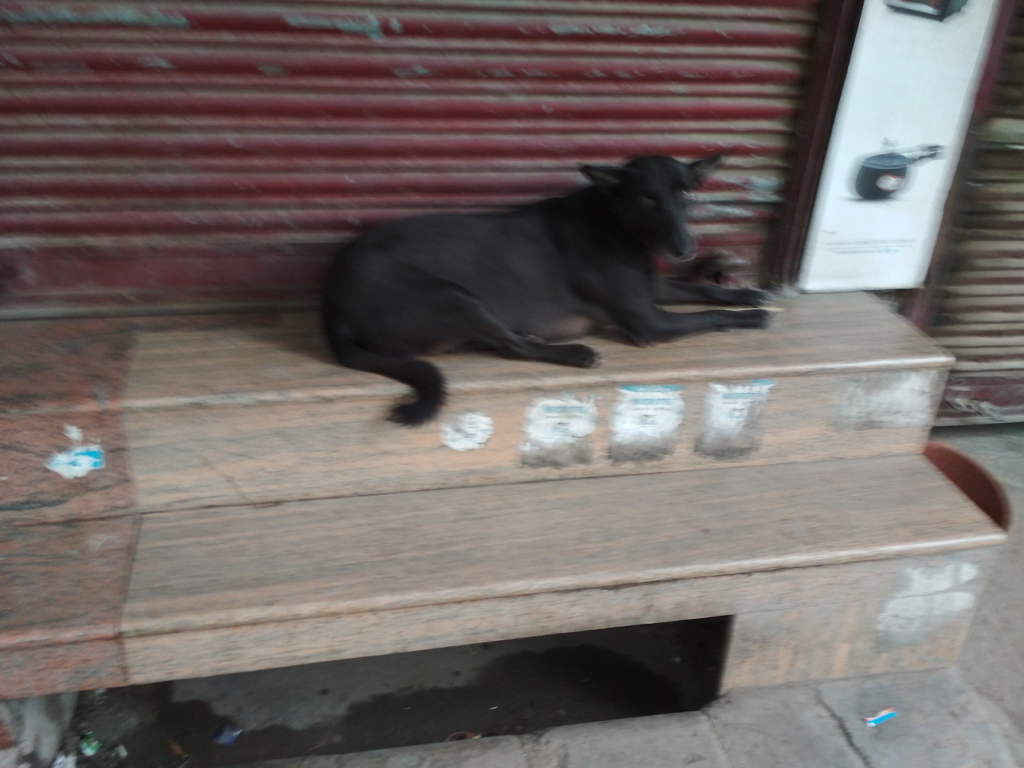dog: (321, 149, 775, 425)
